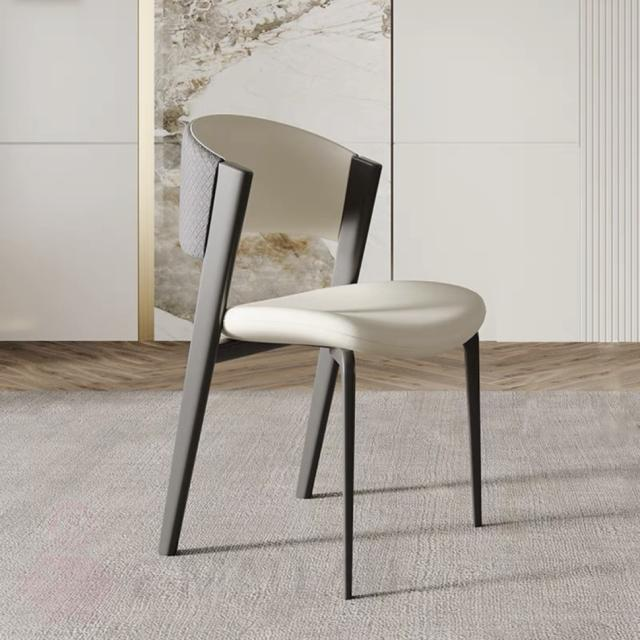chair: (158, 110, 488, 600), (185, 102, 480, 360)
